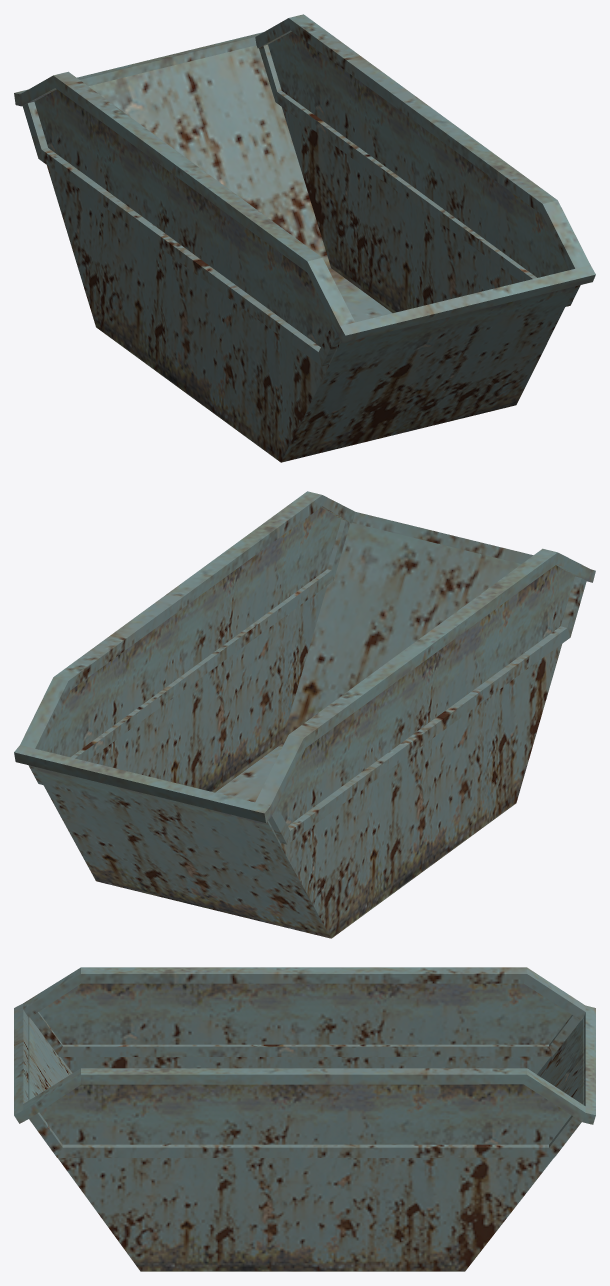
Rendered from Container1_LOD1.fbx.
3 renders of one model, top to bottom at view 1: azimuth 30°, elevation 25°; view 2: azimuth 150°, elevation 25°; view 3: azimuth 270°, elevation 25°, orthographic. The views are drawn at different scales.
Visible parts, largest first — view 1: cont1_polySurface62; view 2: cont1_polySurface62; view 3: cont1_polySurface62.
Part boxes in pixels (x1,y1,x2,y2): cont1_polySurface62: (14, 14, 595, 462); cont1_polySurface62: (14, 491, 595, 938); cont1_polySurface62: (14, 967, 595, 1271).
Size of the model in its own units: 1.7 by 1.48 by 3.9.
